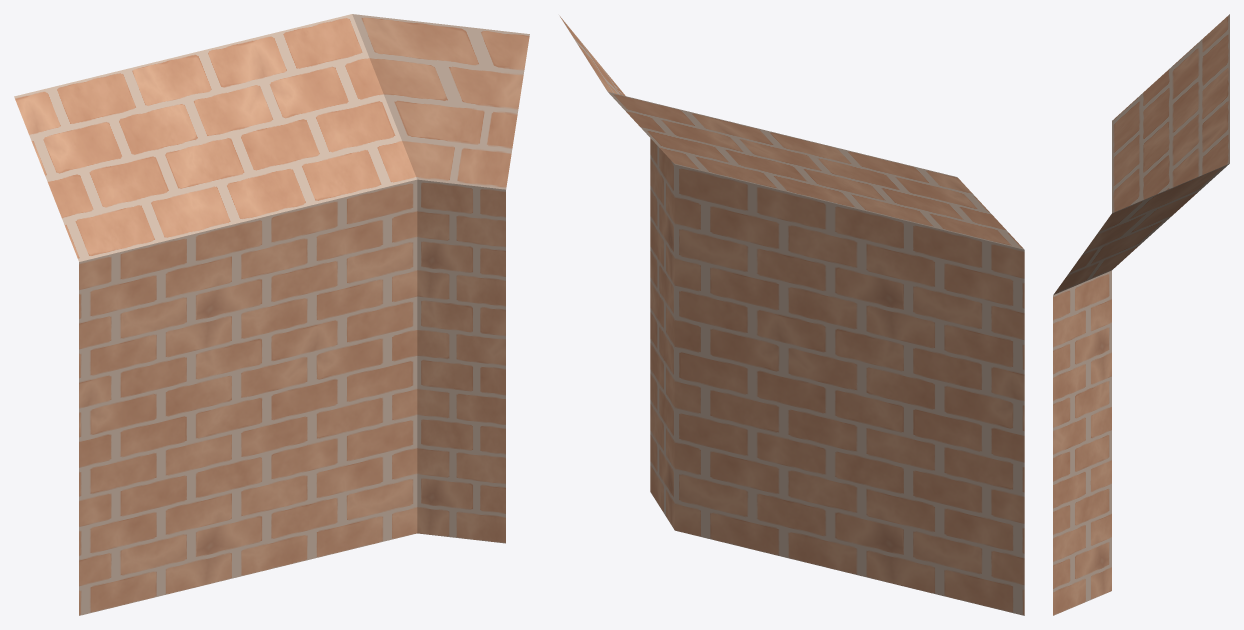
The model's file is Top_Temp_Wall_Cor_R.fbx.
The picture shows the model from 3 angles, left to right: view 1: azimuth 30°, elevation 25°; view 2: azimuth 150°, elevation 25°; view 3: azimuth 270°, elevation 25°; orthographic projection. The views are drawn at different scales.
Visible parts, largest first — view 1: Top_Temp_Wall_Cor_R; view 2: Top_Temp_Wall_Cor_R; view 3: Top_Temp_Wall_Cor_R.
Boxes of the visible parts, <box> form: Top_Temp_Wall_Cor_R: <box>14,14,529,615</box>; Top_Temp_Wall_Cor_R: <box>559,15,1024,615</box>; Top_Temp_Wall_Cor_R: <box>1053,14,1229,615</box>.
Size of the model in its own units: 100 by 100 by 37.5.
Materials: 1 (1 with a texture image).
